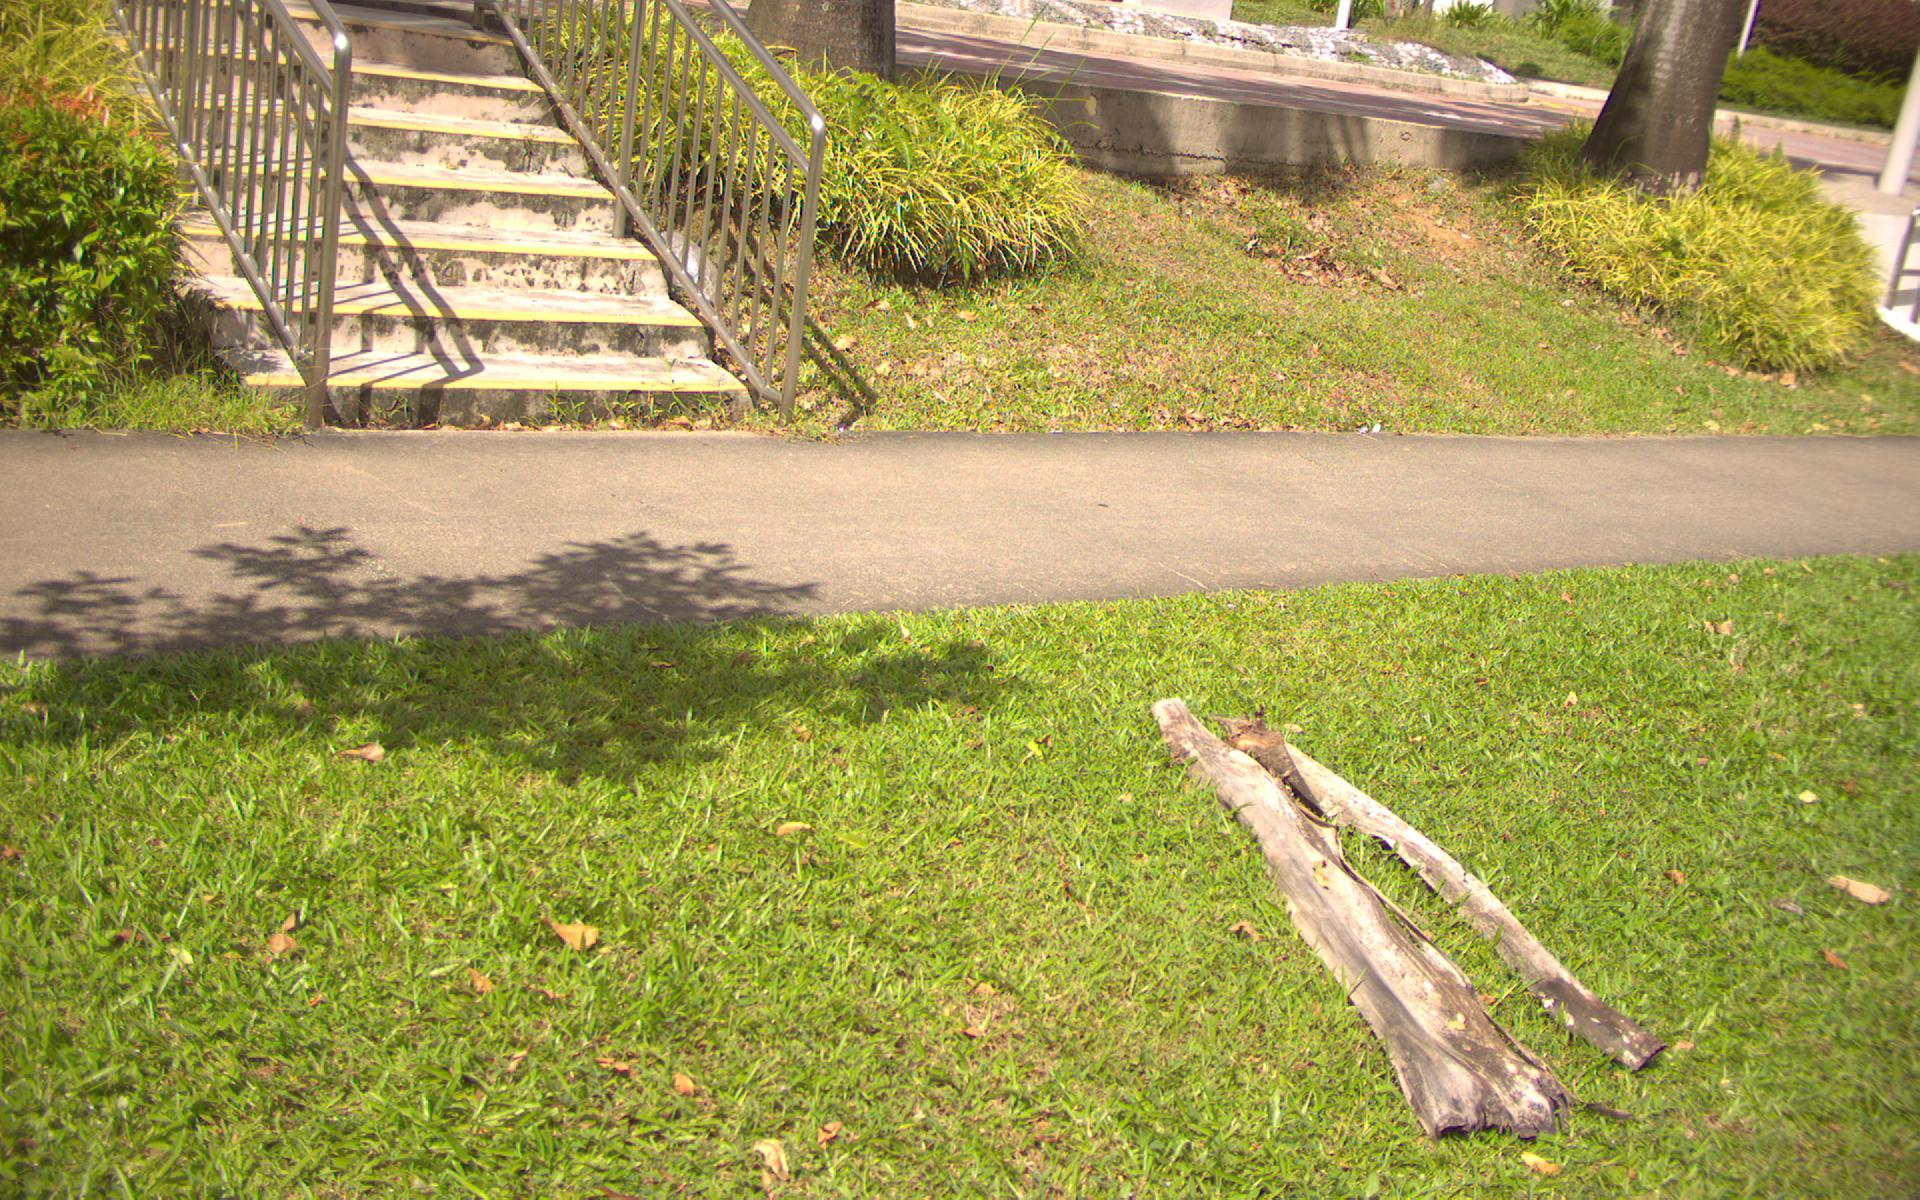road_turf_low: (1, 666, 1920, 1200), (840, 173, 1872, 427), (6, 434, 1920, 554)
